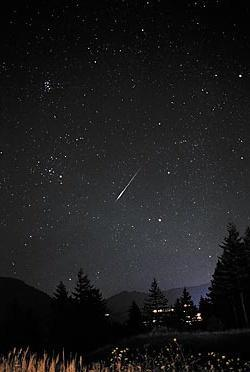meteorite: (108, 162, 145, 204)
